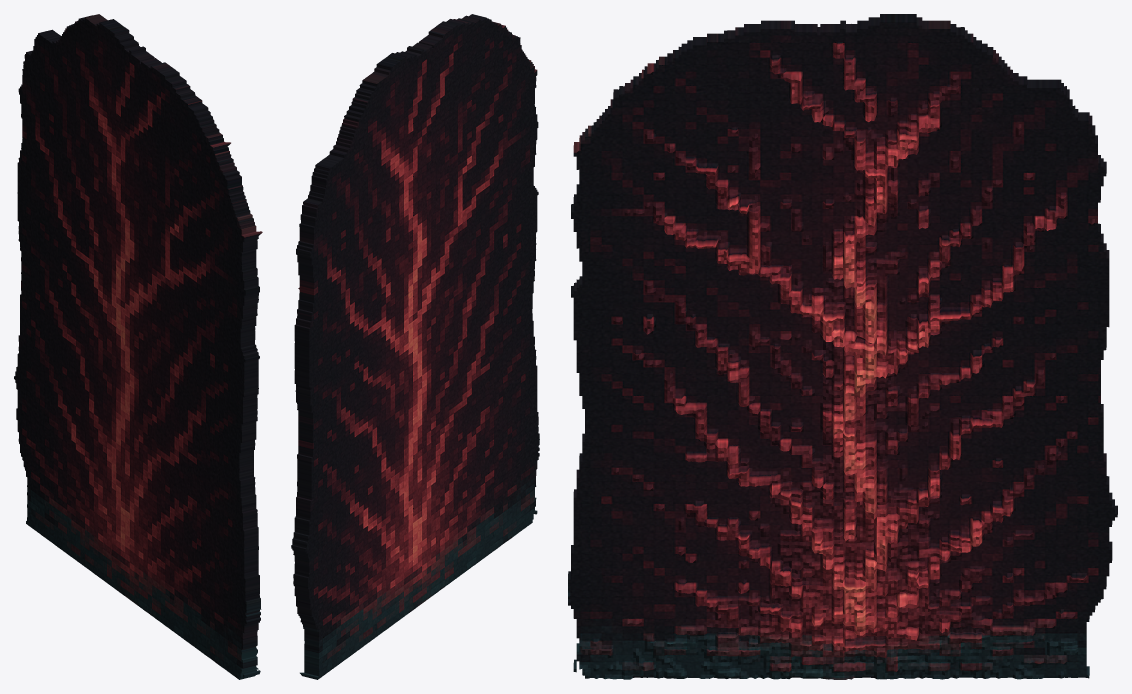
File: Plant_1.fbx
The picture shows the model from 3 angles, left to right: view 1: azimuth 30°, elevation 25°; view 2: azimuth 150°, elevation 25°; view 3: azimuth 270°, elevation 25°; orthographic projection. The views are drawn at different scales.
Parts seen in each view (by area): view 1: Plane; view 2: Plane; view 3: Plane.
Part boxes in pixels (x1,y1,x2,y2): Plane: (14,14,262,679); Plane: (291,14,539,679); Plane: (568,14,1117,679).
Size of the model in its own units: 5.9 by 80.04 by 60.83.
1 material, 1 textured.
